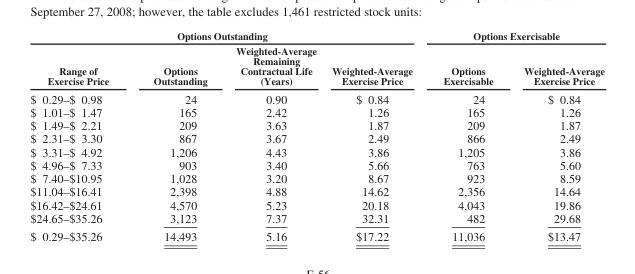table: (29, 29, 603, 242)
table column: (323, 29, 427, 242), (221, 29, 323, 242), (29, 29, 130, 242), (507, 29, 603, 242), (130, 29, 221, 242), (427, 29, 507, 242)
table column header: (29, 29, 603, 89)
table row: (29, 42, 603, 89), (29, 89, 603, 105), (29, 226, 603, 242), (29, 211, 603, 226), (29, 144, 603, 158), (29, 197, 603, 211), (29, 29, 603, 42), (29, 105, 603, 118), (29, 118, 603, 131), (29, 131, 603, 144), (29, 158, 603, 171), (29, 171, 603, 184), (29, 184, 603, 197)
table spanning cell: (29, 29, 427, 42), (427, 29, 603, 42)
